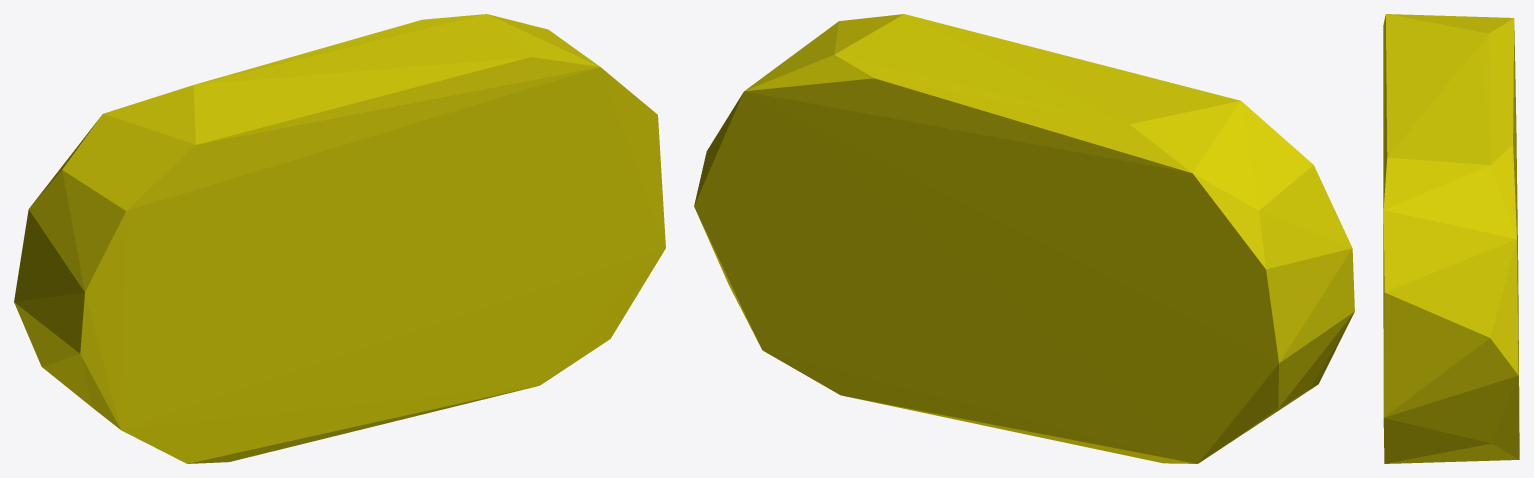
File: hip-pitch-mirror_convex_piece_001.obj
3 renders of one model, left to right at view 1: azimuth 30°, elevation 25°; view 2: azimuth 150°, elevation 25°; view 3: azimuth 270°, elevation 25°, orthographic. The views are drawn at different scales.
Size of the model in its own units: 0.2548 by 0.1365 by 0.0561.
